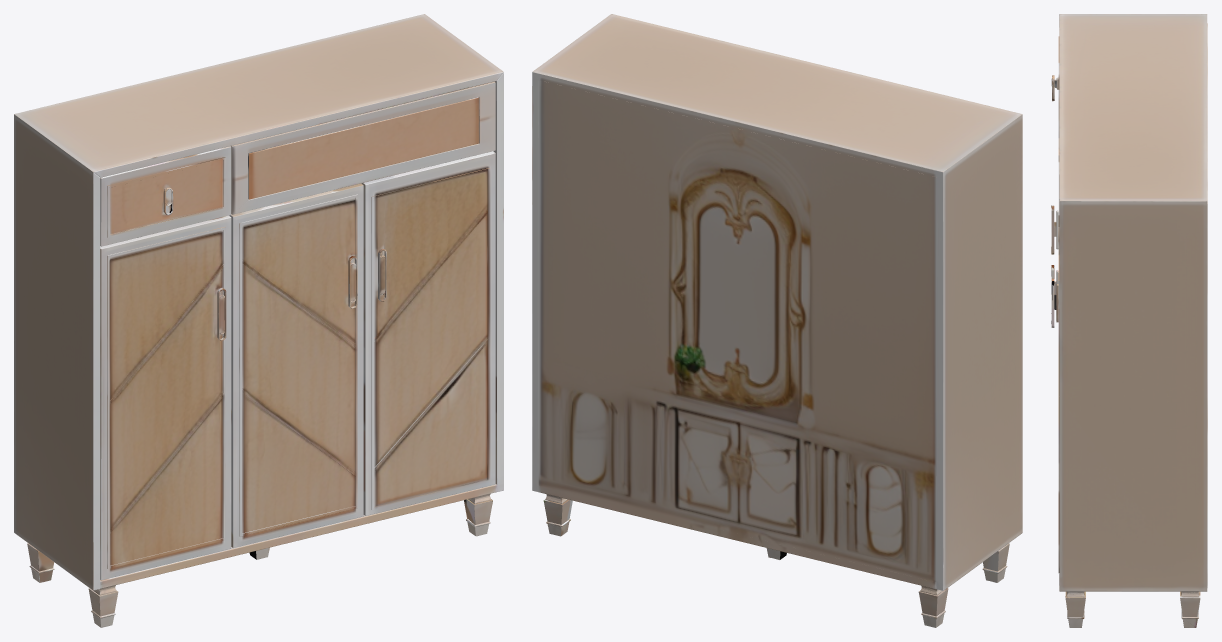
Rendered from edited_mesh.glb.
3 views of the same model, side by side, from view 1: azimuth 30°, elevation 25°; view 2: azimuth 150°, elevation 25°; view 3: azimuth 270°, elevation 25° (orthographic). The views are drawn at different scales.
Parts seen in each view (by area): view 1: solid_001_wire; view 2: solid_001_wire; view 3: solid_001_wire.
Boxes of the visible parts, x1,y1,x2,y2 form: solid_001_wire: (14, 14, 503, 627); solid_001_wire: (532, 14, 1022, 627); solid_001_wire: (1051, 14, 1207, 627).
Bounding box in the file's own units: 1.27 × 1.37 × 0.4471.
1 material, 1 textured.
